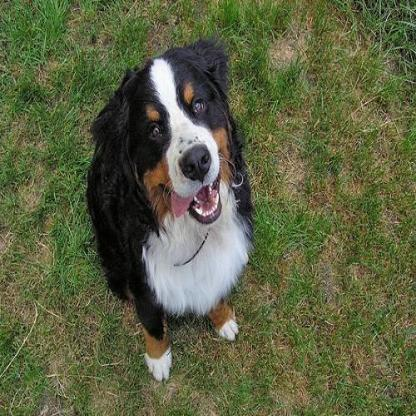Bernese_mountain_dog: (82, 38, 258, 384)
